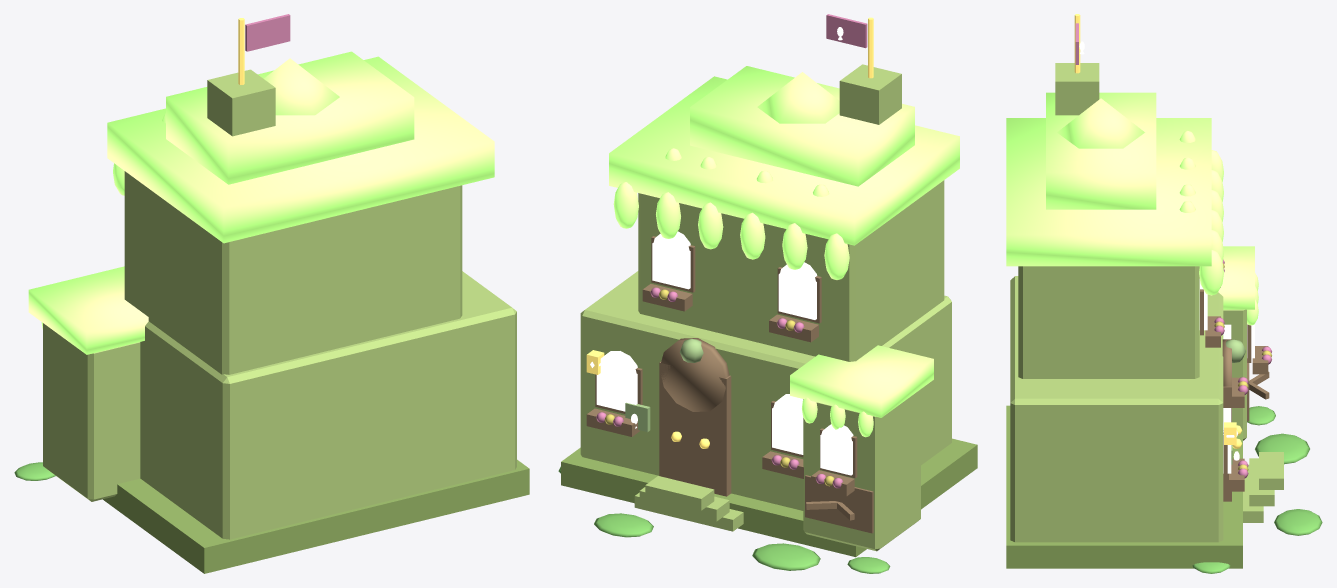
Rendered from SlimeHouse_Upgrade1.fbx.
3 views of the same model, side by side, from view 1: azimuth 30°, elevation 25°; view 2: azimuth 150°, elevation 25°; view 3: azimuth 270°, elevation 25° (orthographic). The views are drawn at different scales.
Visible parts, largest first — view 1: SlimeHouse_Upgrade1; view 2: SlimeHouse_Upgrade1; view 3: SlimeHouse_Upgrade1.
Boxes of the visible parts, <box> form: SlimeHouse_Upgrade1: <box>14,14,529,573</box>; SlimeHouse_Upgrade1: <box>558,14,977,573</box>; SlimeHouse_Upgrade1: <box>1006,14,1322,573</box>.
Bounding box in the file's own units: 2.51 × 3.14 × 2.
